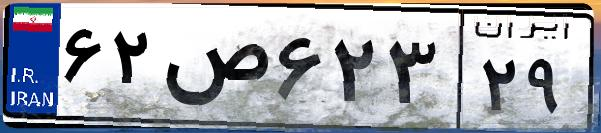2: (330, 28, 385, 110), (475, 38, 525, 113), (110, 28, 158, 98)
3: (385, 28, 445, 110)
6: (270, 28, 330, 110), (57, 26, 110, 100)
9: (525, 38, 570, 115)
ص: (158, 20, 270, 120)
